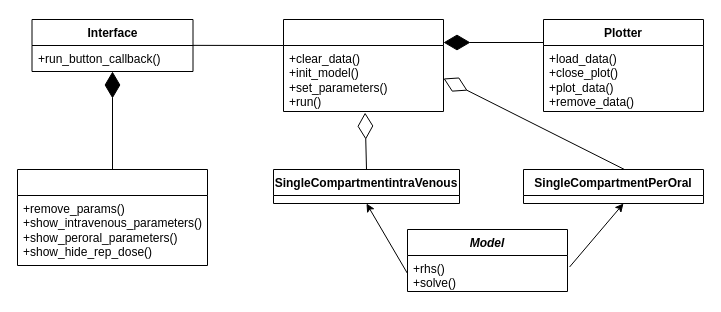
This 721x312 diagram has some shape labels left out. Here are the shapes that lost their labels. From the top down, the box of each, then its label:
(282, 18, 444, 112): Simulator
(16, 168, 208, 266): ScrollableFrame
